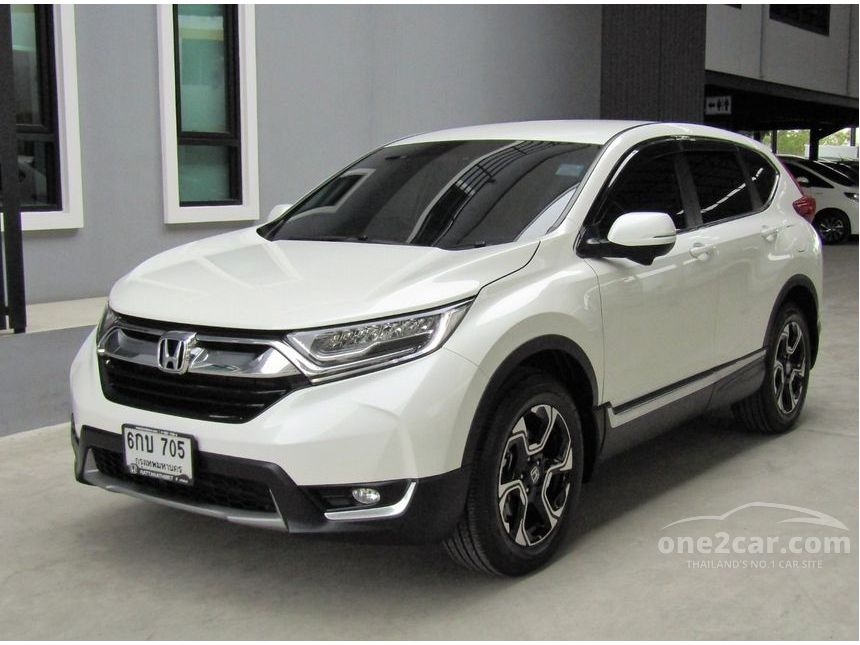pickup: (62, 113, 822, 578)
